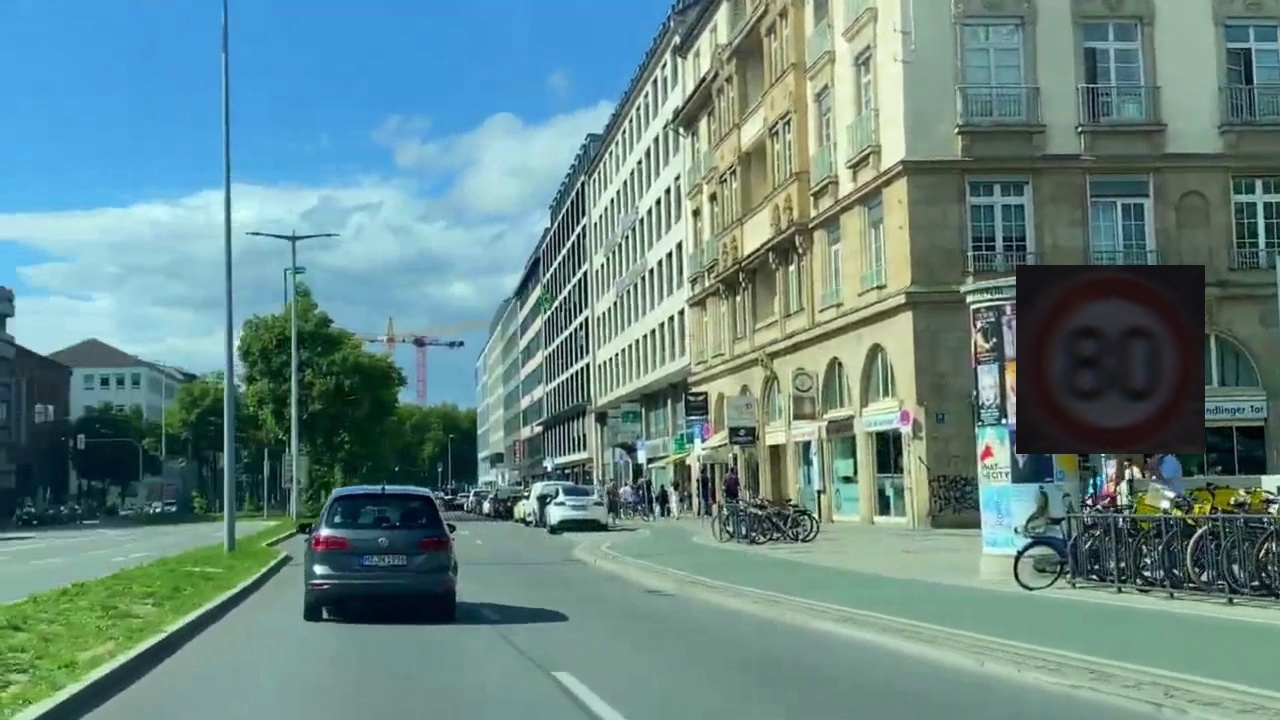Speed 80: (1016, 265, 1205, 454)
